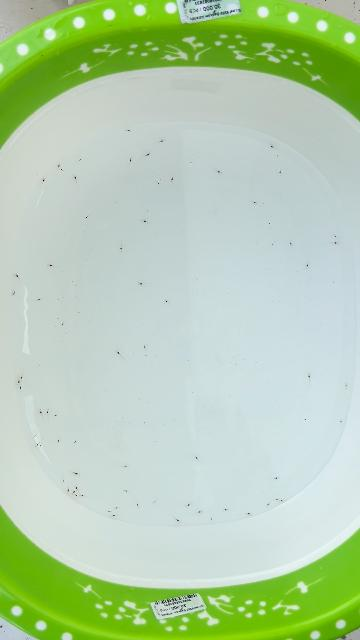benur: (73, 472, 80, 476), (269, 144, 274, 149), (176, 518, 181, 523), (115, 349, 120, 354), (159, 139, 165, 143), (145, 152, 151, 156), (217, 171, 222, 175), (307, 373, 311, 378), (247, 512, 252, 516), (185, 504, 190, 508), (74, 484, 78, 489), (19, 376, 23, 381), (129, 157, 132, 163), (274, 476, 280, 479), (144, 220, 148, 224), (265, 503, 269, 507), (71, 491, 75, 495), (38, 409, 42, 413), (14, 273, 18, 277), (194, 455, 198, 459), (43, 177, 46, 182), (73, 174, 76, 179), (170, 178, 173, 183), (279, 170, 282, 175), (305, 264, 308, 269), (334, 241, 339, 244), (79, 493, 84, 496), (67, 489, 70, 494), (35, 443, 38, 448), (17, 380, 20, 385), (61, 322, 64, 327), (12, 292, 15, 297), (47, 263, 52, 266), (163, 299, 168, 302), (138, 282, 143, 285), (119, 248, 122, 252), (58, 163, 61, 167), (60, 168, 64, 171), (128, 130, 132, 133), (254, 202, 258, 205), (290, 243, 293, 247), (344, 382, 347, 386), (339, 419, 342, 423), (137, 504, 140, 508), (113, 507, 117, 510), (56, 440, 60, 443), (53, 414, 57, 417), (46, 409, 49, 413), (36, 299, 40, 302), (144, 346, 147, 350), (223, 509, 228, 511), (86, 215, 89, 218), (156, 181, 159, 184), (334, 235, 337, 238), (74, 440, 77, 443), (111, 515, 115, 517), (125, 465, 129, 467), (75, 493, 77, 497), (38, 364, 40, 368), (79, 159, 82, 161), (281, 499, 284, 501), (211, 517, 213, 520), (125, 490, 128, 492), (108, 510, 110, 513), (19, 386, 21, 389), (276, 155, 278, 157), (272, 243, 274, 245), (304, 418, 306, 420), (276, 498, 278, 500), (199, 511, 201, 513), (153, 501, 155, 503), (40, 445, 42, 447), (34, 435, 36, 437), (189, 162, 192, 163), (63, 480, 64, 482), (61, 423, 61, 424)
